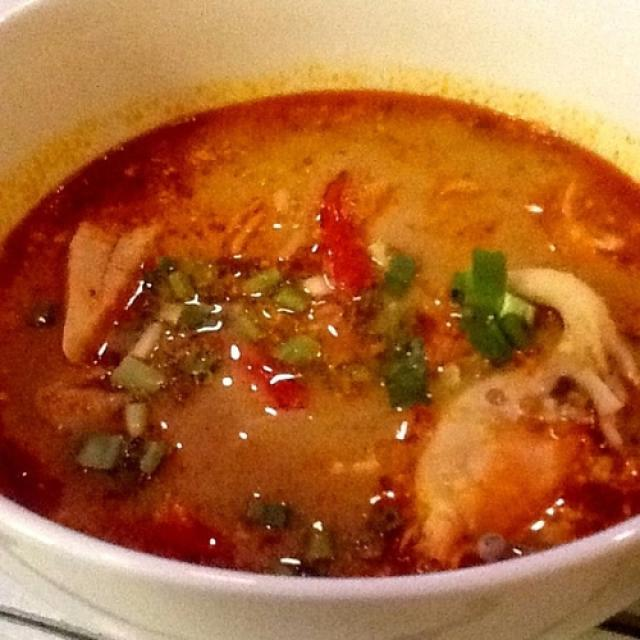汤锅炖物: (22, 69, 608, 584)
